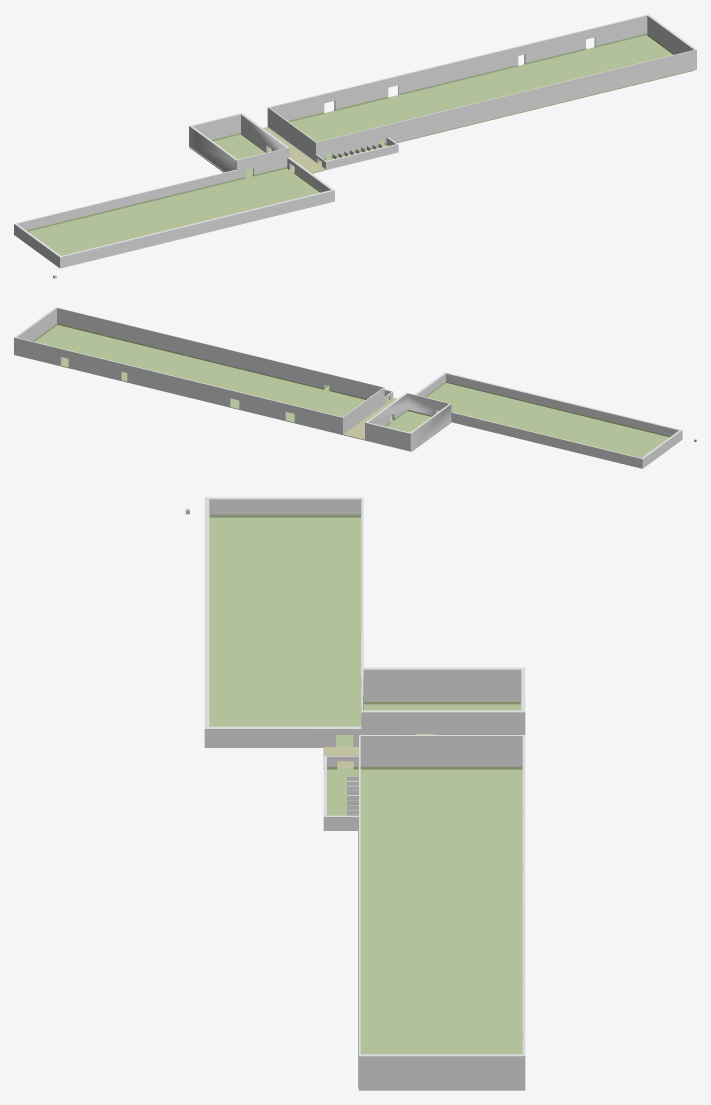
File: JMCK_01.gltf
The picture shows the model from 3 angles, top to bottom: view 1: azimuth 30°, elevation 25°; view 2: azimuth 150°, elevation 25°; view 3: azimuth 270°, elevation 25°; orthographic projection. The views are drawn at different scales.
Visible parts, largest first — view 1: 立方体.65-材质.1 (×3), 布尔.1-材质, 布尔-材质, 立方体.63-材质.1 (×2), 立方体.65-材质.2; view 2: 立方体.65-材质.1 (×3), 布尔.1-材质, 布尔-材质, 立方体.63-材质.1 (×2), 立方体.65-材质.2; view 3: 立方体.65-材质.1 (×4), 布尔-材质, 布尔.1-材质, 立方体.63-材质.1.
Part boxes in pixels (x1,y1,x2,y2): 立方体.65-材质.1 (×3): (28,35,693,255); 布尔.1-材质: (267,14,696,169); 布尔-材质: (14,113,334,268); 立方体.63-材质.1 (×2): (26,33,675,231); 立方体.65-材质.2: (263,127,325,173); 立方体.65-材质.1 (×3): (35,325,669,467); 布尔.1-材质: (14,307,393,434); 布尔-材质: (365,372,682,468); 立方体.63-材质.1 (×2): (32,323,670,437); 立方体.65-材质.2: (344,398,397,440); 立方体.65-材质.1 (×4): (209,517,522,1088); 布尔-材质: (204,497,525,747); 布尔.1-材质: (323,735,525,1090); 立方体.63-材质.1: (209,514,522,1054).
Bounding box in the file's own units: 312 × 10.29 × 76.76.
